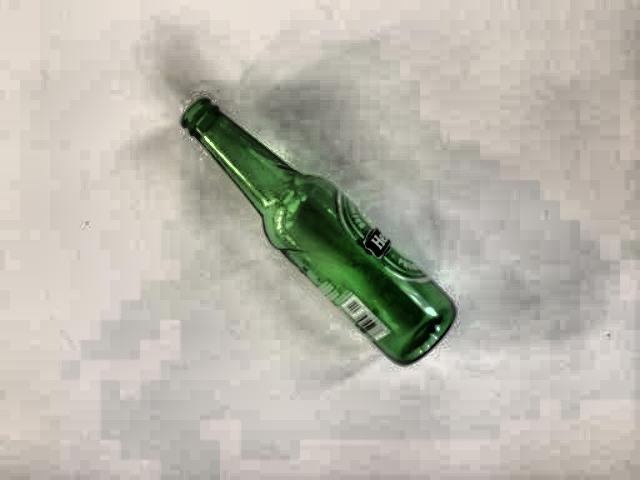Bottles: (163, 91, 469, 392)
